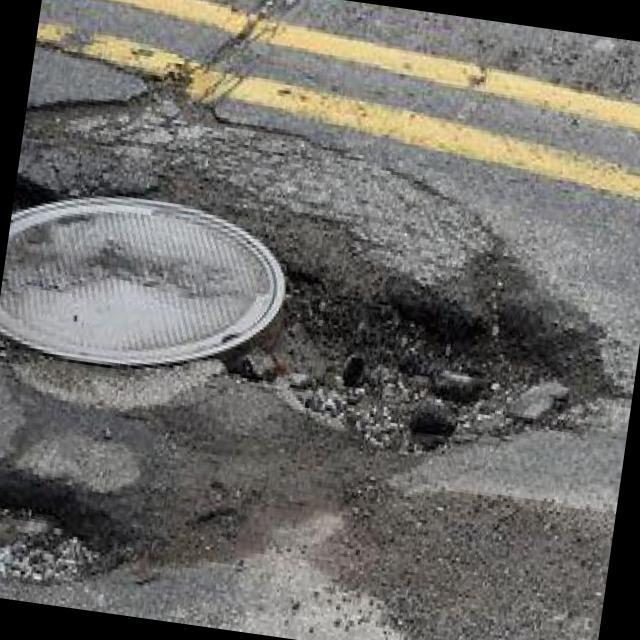Pothole: (227, 219, 613, 450), (0, 504, 104, 582), (15, 175, 58, 209)
